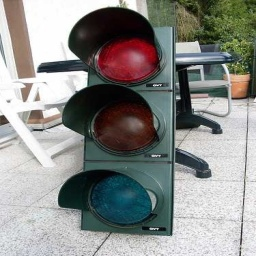traffic light: (57, 7, 176, 236)
